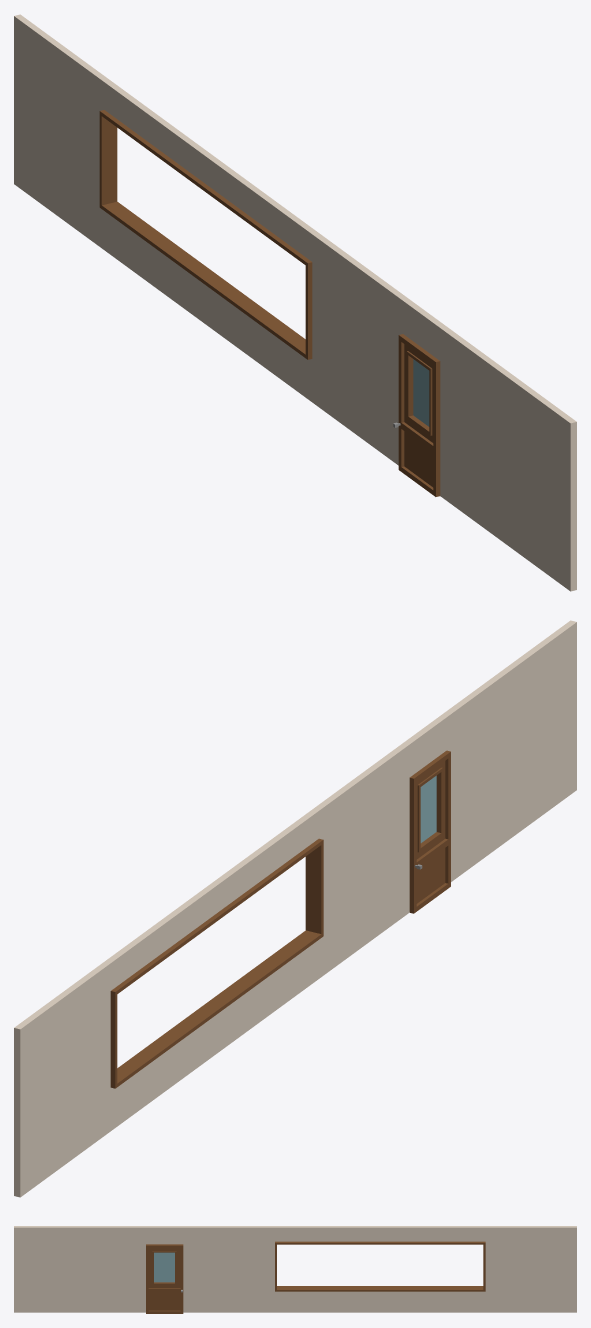
Rendered from BasicWallWithDoorAndWindow.fbx.
3 views of the same model, one above another, from view 1: azimuth 30°, elevation 25°; view 2: azimuth 150°, elevation 25°; view 3: azimuth 270°, elevation 25° (orthographic). The views are drawn at different scales.
Parts seen in each view (by area): view 1: Wall; view 2: Wall; view 3: Wall.
Part boxes in pixels (left/top/right/bottom): Wall: left=14, top=14, right=576, bottom=591; Wall: left=14, top=620, right=576, bottom=1197; Wall: left=14, top=1226, right=576, bottom=1313.
Bounding box in the file's own units: 0.4229 × 2.5 × 15.
